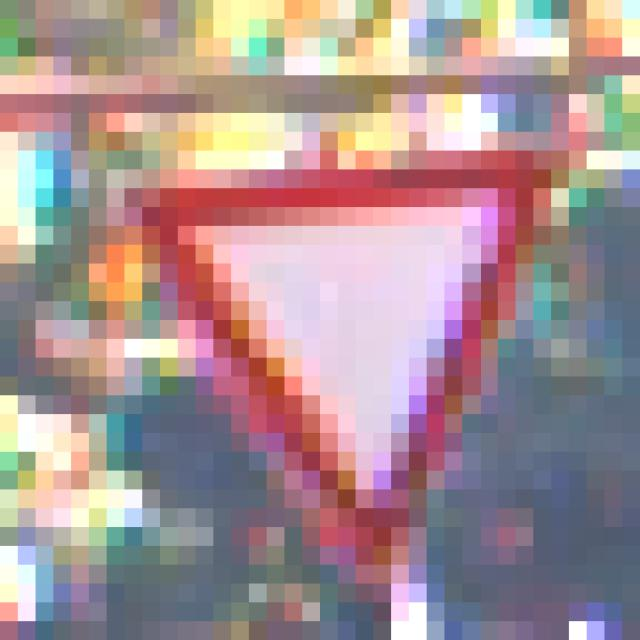Give Way: (108, 114, 534, 547)
